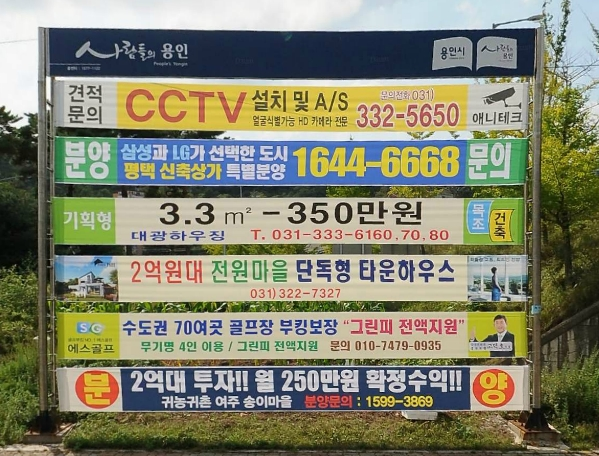banner: (33, 350, 553, 422), (37, 66, 552, 136), (23, 121, 560, 187), (33, 190, 544, 250), (29, 249, 553, 307), (24, 302, 553, 356)
